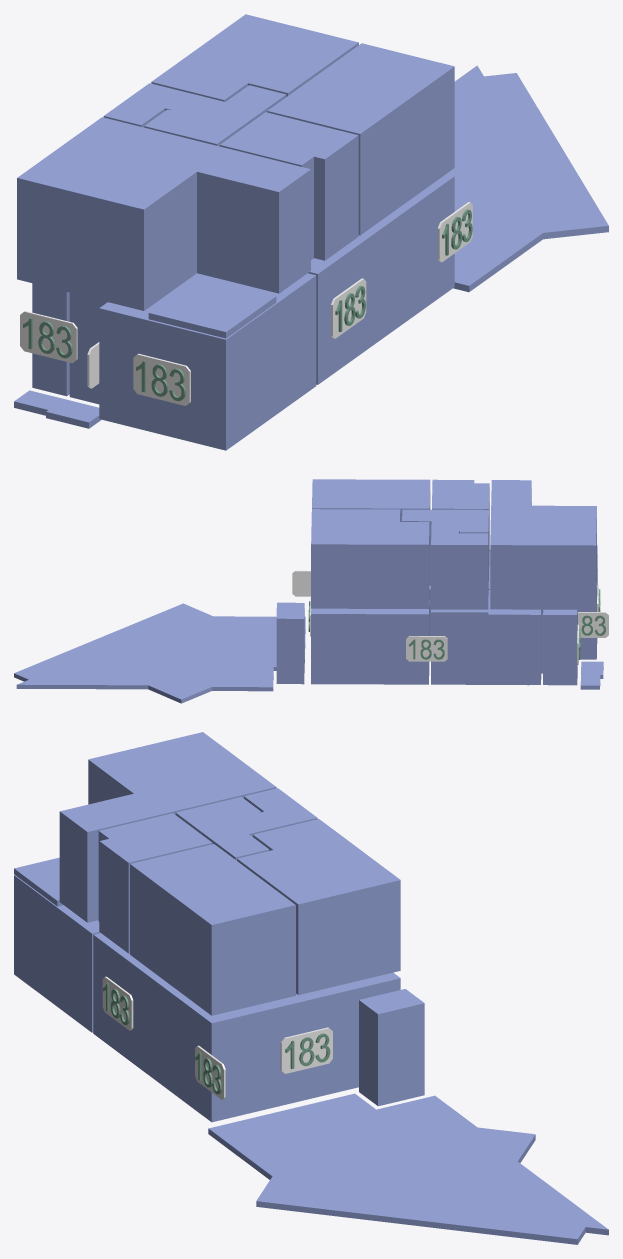
3 views of the same model, one above another, from view 1: azimuth 30°, elevation 25°; view 2: azimuth 150°, elevation 25°; view 3: azimuth 270°, elevation 25° (orthographic). The views are drawn at different scales.
Visible parts, largest first — view 1: g_7, g_1, g_13, g_6, g_0, g_5, g_8, g_12, g_9, g_2, g_4, g_10 (+5 smaller); view 2: g_13, g_7, g_5, g_0, g_2, g_10, g_6, g_4, g_3, g_9, g_8, g_29 (+4 smaller); view 3: g_13, g_0, g_6, g_5, g_7, g_1, g_3, g_8, g_9, g_10, g_17, g_12 (+2 smaller).
Part boxes in pixels (left/top/right/bottom): g_7: left=17, top=117, right=310, bottom=310; g_1: left=99, top=273, right=316, bottom=450; g_13: left=446, top=65, right=608, bottom=292; g_6: left=267, top=43, right=454, bottom=235; g_0: left=308, top=174, right=454, bottom=384; g_5: left=151, top=14, right=358, bottom=101; g_8: left=219, top=112, right=358, bottom=260; g_12: left=148, top=277, right=276, bottom=338; g_9: left=144, top=85, right=286, bottom=146; g_2: left=69, top=292, right=107, bottom=404; g_4: left=32, top=283, right=69, bottom=396; g_10: left=103, top=83, right=193, bottom=127; g_13: left=14, top=603, right=305, bottom=703; g_7: left=490, top=480, right=596, bottom=609; g_5: left=311, top=509, right=429, bottom=608; g_0: left=311, top=585, right=430, bottom=684; g_2: left=431, top=590, right=577, bottom=685; g_10: left=431, top=530, right=488, bottom=609; g_6: left=312, top=479, right=430, bottom=521; g_4: left=543, top=609, right=577, bottom=685; g_3: left=276, top=602, right=304, bottom=684; g_9: left=402, top=509, right=488, bottom=595; g_8: left=432, top=479, right=489, bottom=565; g_29: left=406, top=635, right=447, bottom=661; g_13: left=208, top=1093, right=608, bottom=1244; g_0: left=93, top=933, right=400, bottom=1122; g_6: left=130, top=844, right=295, bottom=1015; g_5: left=237, top=819, right=400, bottom=994; g_7: left=59, top=732, right=276, bottom=922; g_1: left=14, top=875, right=100, bottom=1032; g_3: left=359, top=989, right=424, bottom=1106; g_8: left=98, top=813, right=212, bottom=953; g_9: left=175, top=797, right=276, bottom=860; g_10: left=244, top=788, right=317, bottom=828; g_17: left=280, top=1027, right=332, bottom=1073; g_12: left=14, top=857, right=63, bottom=906.
Bounding box in the file's own units: 17.55 × 5.35 × 14.17.
